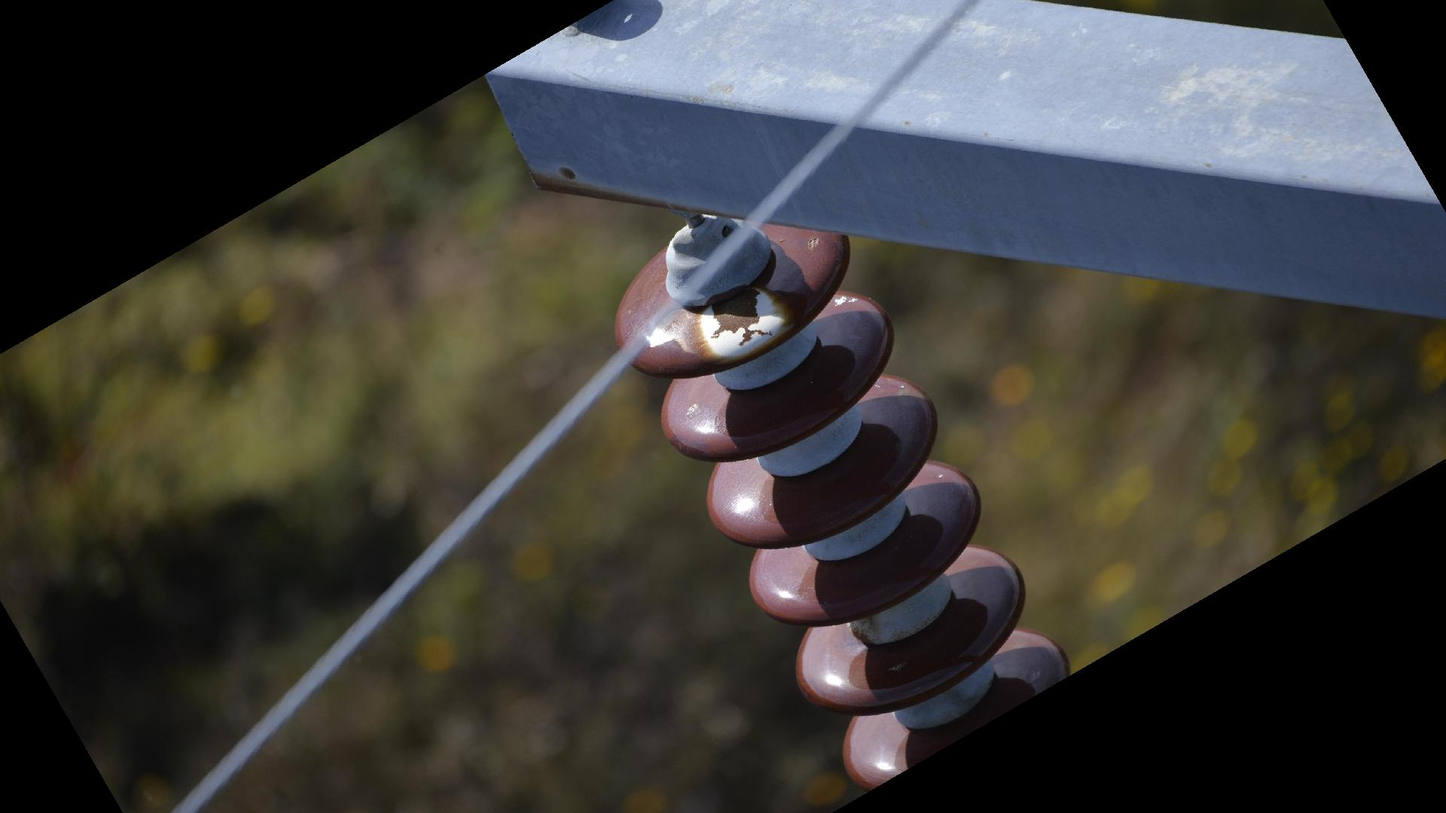insulator: (607, 216, 1081, 792)
insulator_flashover: (697, 282, 792, 366)
